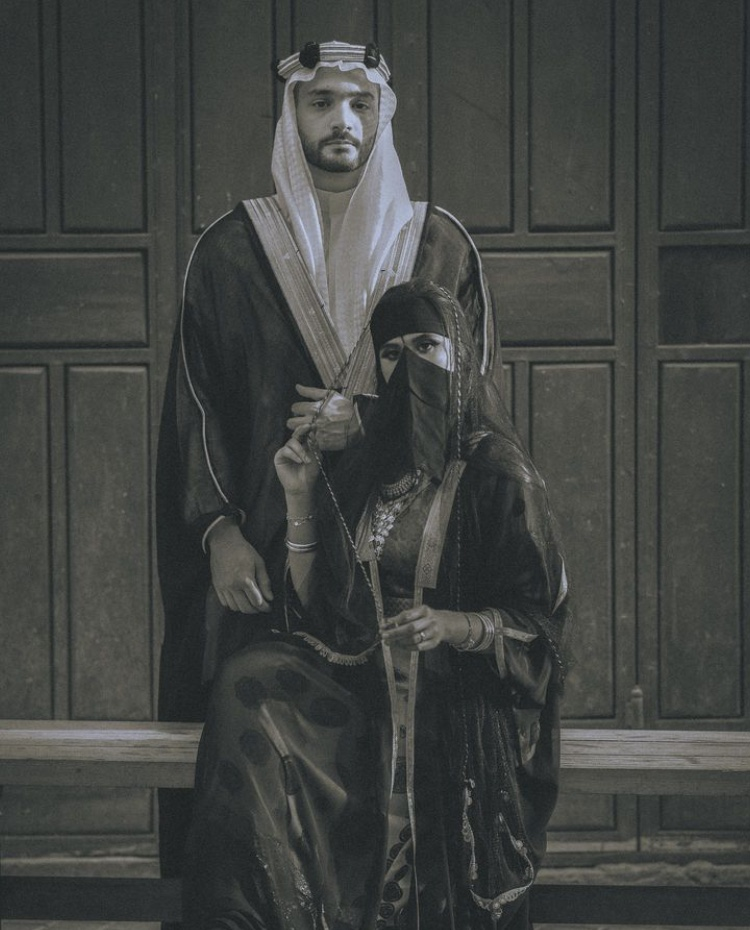Saudi_Founding_Day: (150, 37, 502, 887), (176, 277, 567, 928)
